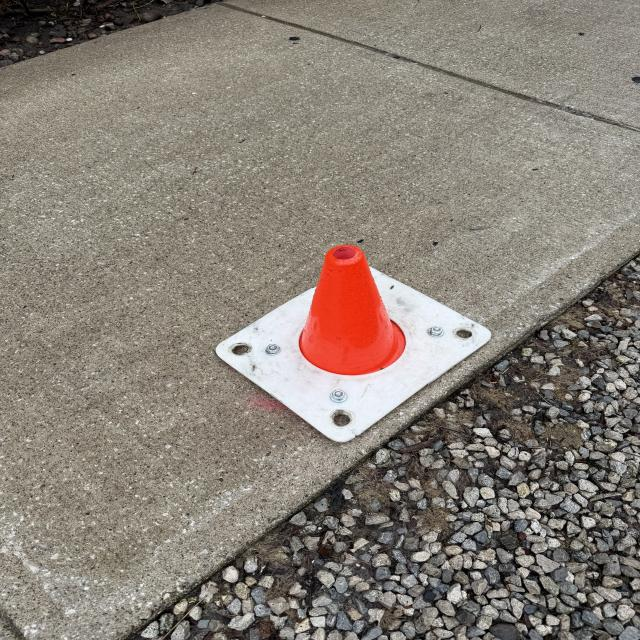Traffic Cone: (213, 242, 493, 445)
